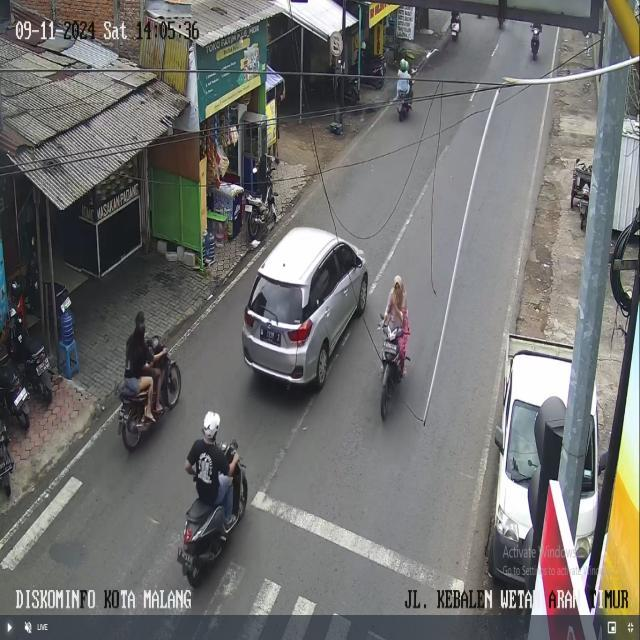Helmet: (202, 411, 220, 441), (400, 59, 408, 71)
Number Plate: (260, 326, 280, 345), (177, 549, 193, 566), (14, 388, 28, 407), (36, 358, 49, 375), (60, 297, 70, 312), (384, 341, 397, 352), (245, 204, 252, 212)
Rearview Mirror: (494, 426, 504, 454), (598, 450, 608, 474), (252, 166, 257, 174)
